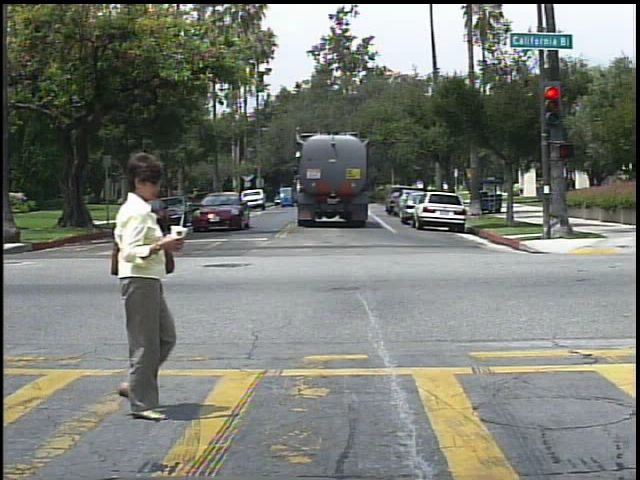person: (80, 151, 199, 424), (564, 172, 582, 205), (517, 180, 530, 200)
